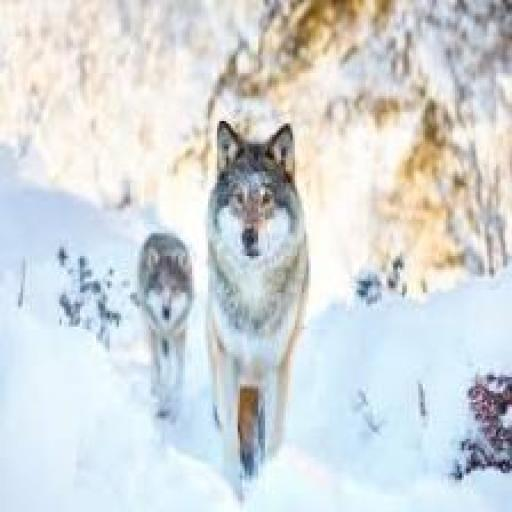wolf: (201, 121, 318, 486), (140, 233, 193, 418)
